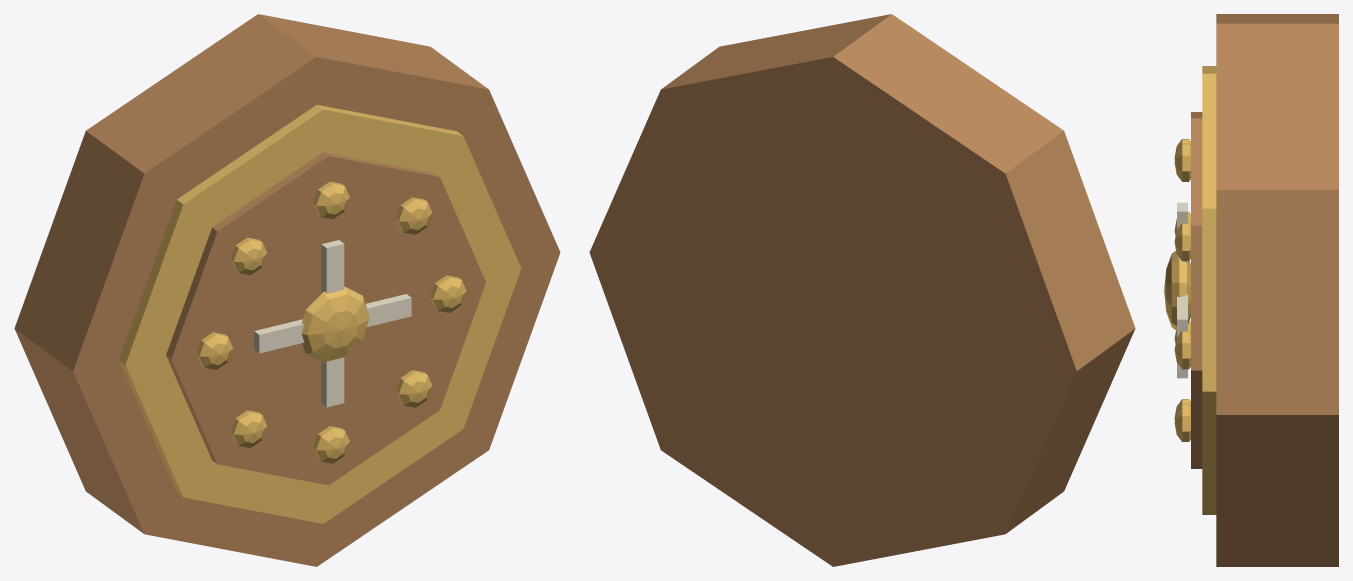
Rendered from rajmudra.glb.
3 renders of one model, left to right at view 1: azimuth 30°, elevation 25°; view 2: azimuth 150°, elevation 25°; view 3: azimuth 270°, elevation 25°, orthographic. The views are drawn at different scales.
Visible parts, largest first — view 1: Rajmudra; view 2: Rajmudra; view 3: Rajmudra.
Part boxes in pixels (bbox=[...]): Rajmudra: bbox=[14, 14, 560, 566]; Rajmudra: bbox=[589, 14, 1135, 566]; Rajmudra: bbox=[1164, 14, 1338, 566].
Bounding box in the file's own units: 0.96 × 0.96 × 0.285.
